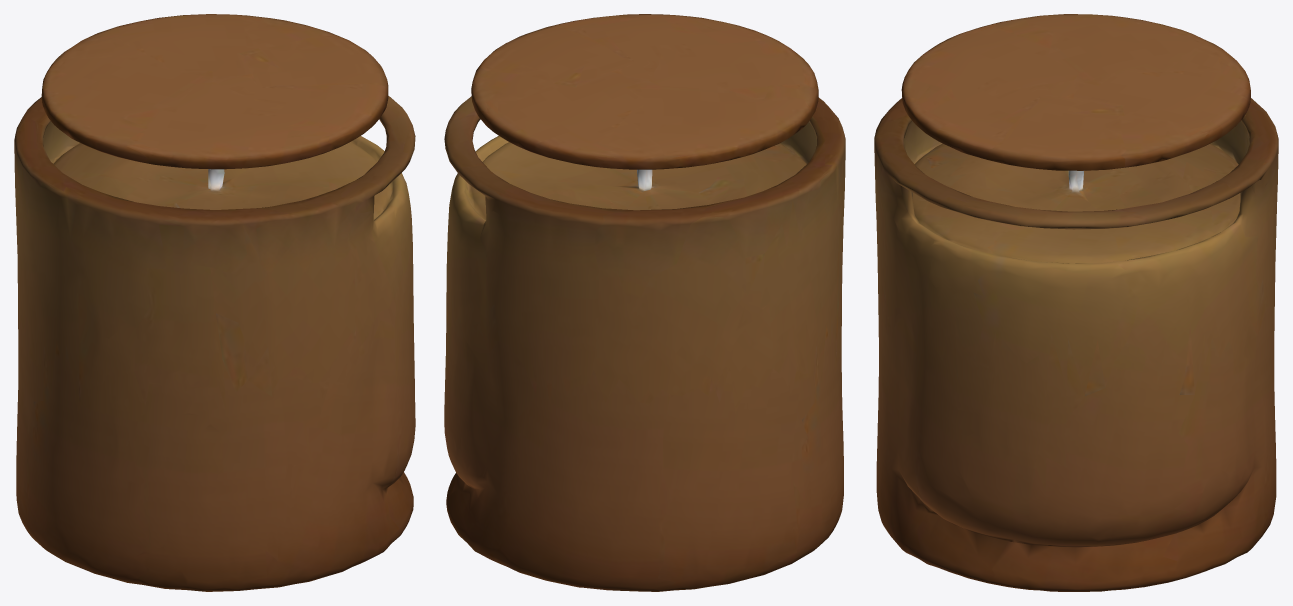
File: candle-v2.glb
3 views of the same model, side by side, from view 1: azimuth 30°, elevation 25°; view 2: azimuth 150°, elevation 25°; view 3: azimuth 270°, elevation 25° (orthographic).
Parts seen in each view (by area): view 1: prop__candle; view 2: prop__candle; view 3: prop__candle.
Part boxes in pixels (x1,y1,x2,y2): prop__candle: (14, 14, 415, 591); prop__candle: (444, 14, 845, 591); prop__candle: (874, 14, 1278, 591).
Bounding box in the file's own units: 0.0932 × 0.11 × 0.0933.
1 material, 1 textured.
